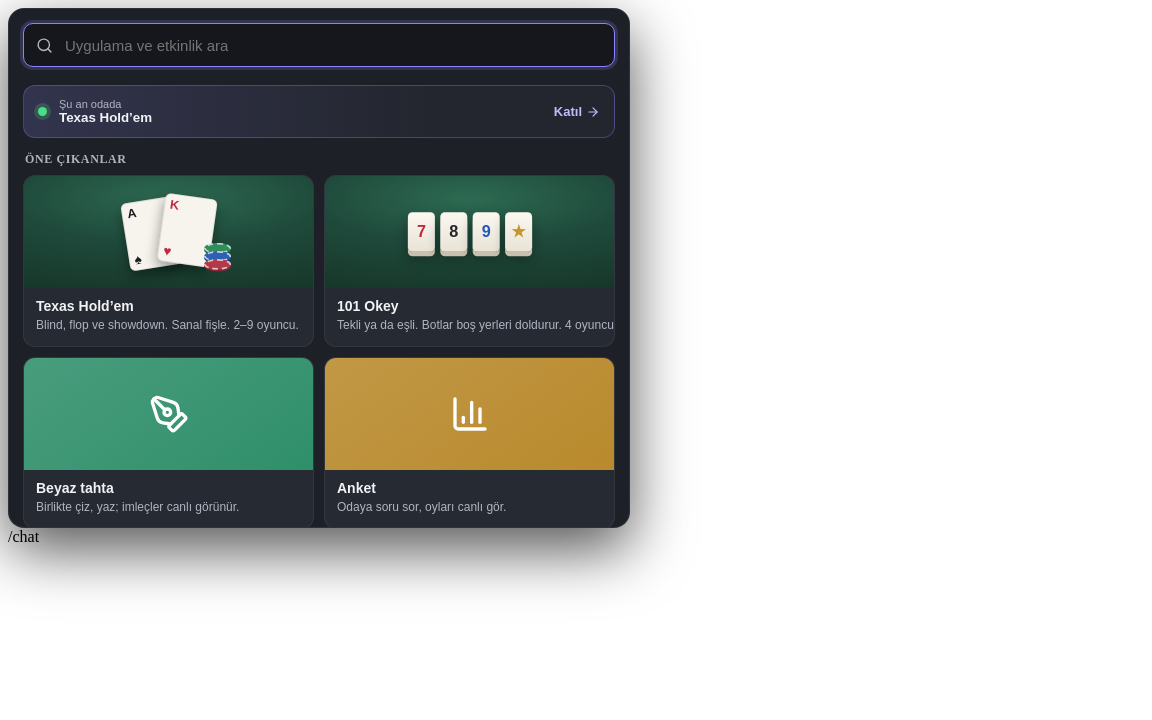
Test: puts what is already running in the room first
Click the button "Şu an odada Texas Hold’em Katıl": (90, 104) [23,85,615,138]
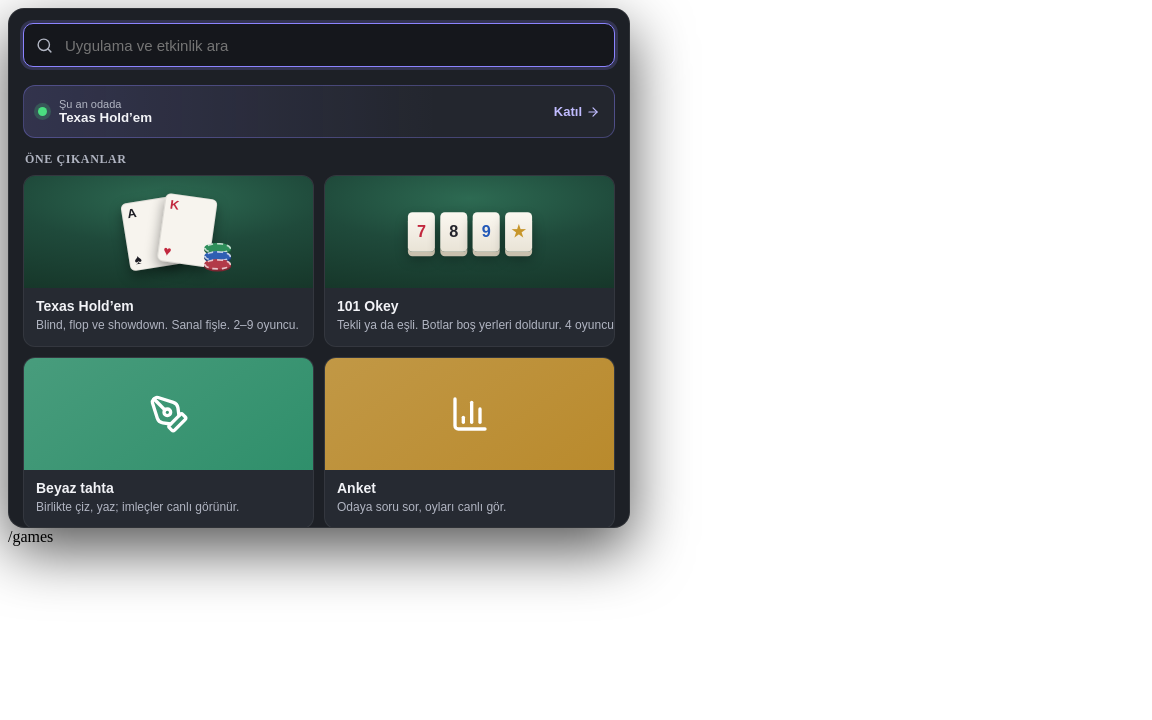
Result: the text with test id "route" reads "/games" at [8,528,53,545]
